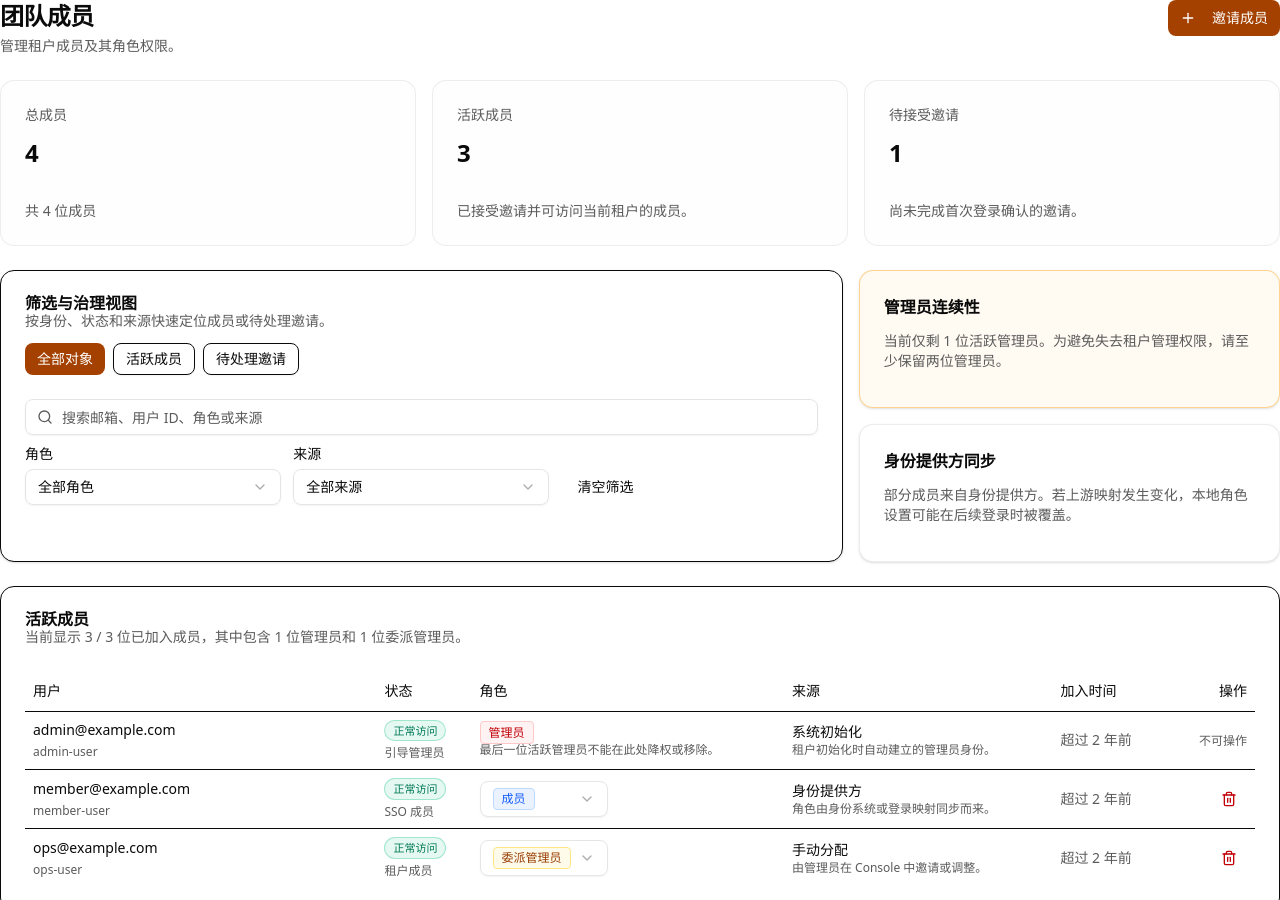
Test: MembersPage › opens invite dialog when invite button clicked
Expected: the text "admin@example.com" is shown, left=33, top=720, right=176, bottom=740
Click the button "邀请成员".
click(1224, 18)  # box left=1168, top=0, right=1279, bottom=36
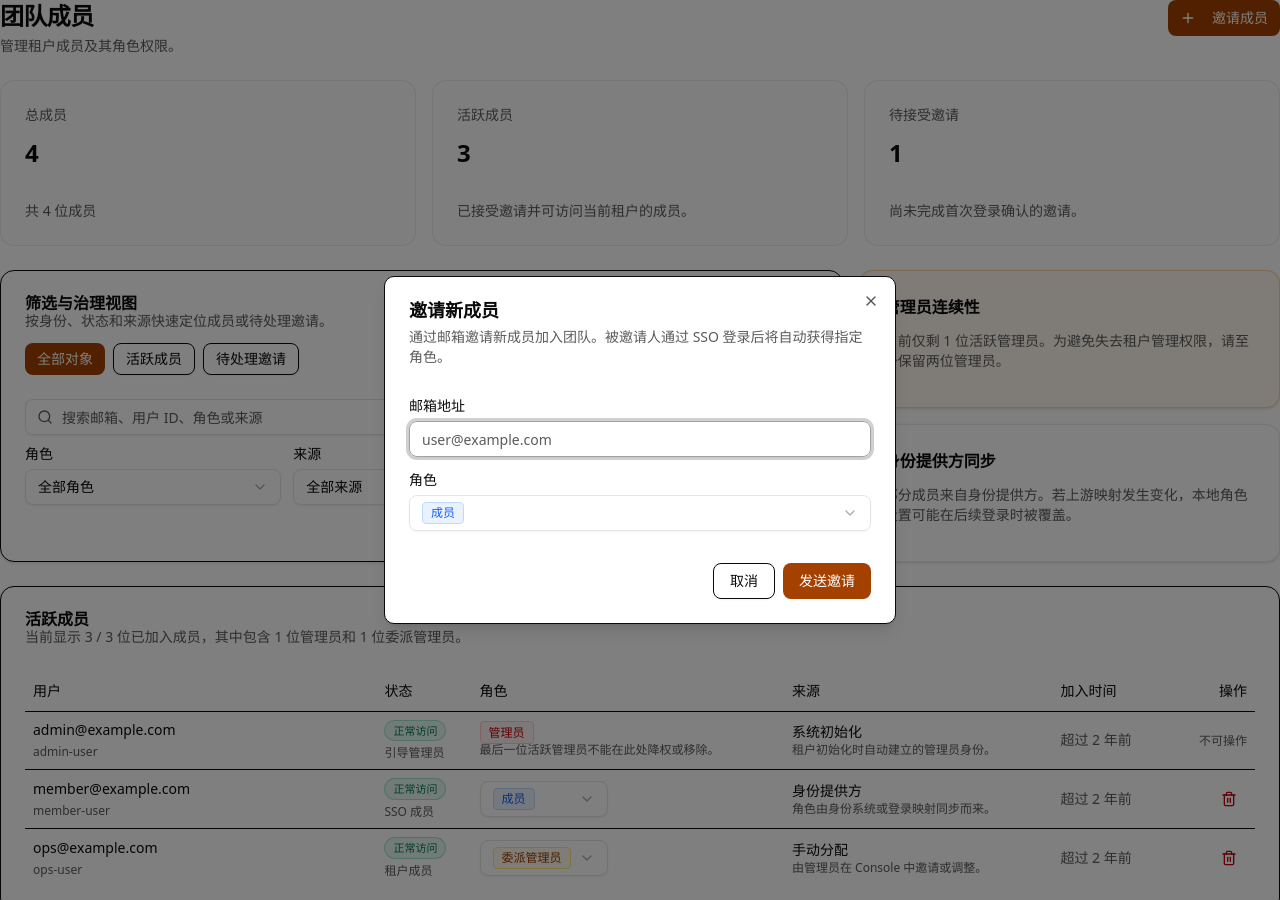
Expected: the dialog is shown, left=384, top=276, right=896, bottom=624
